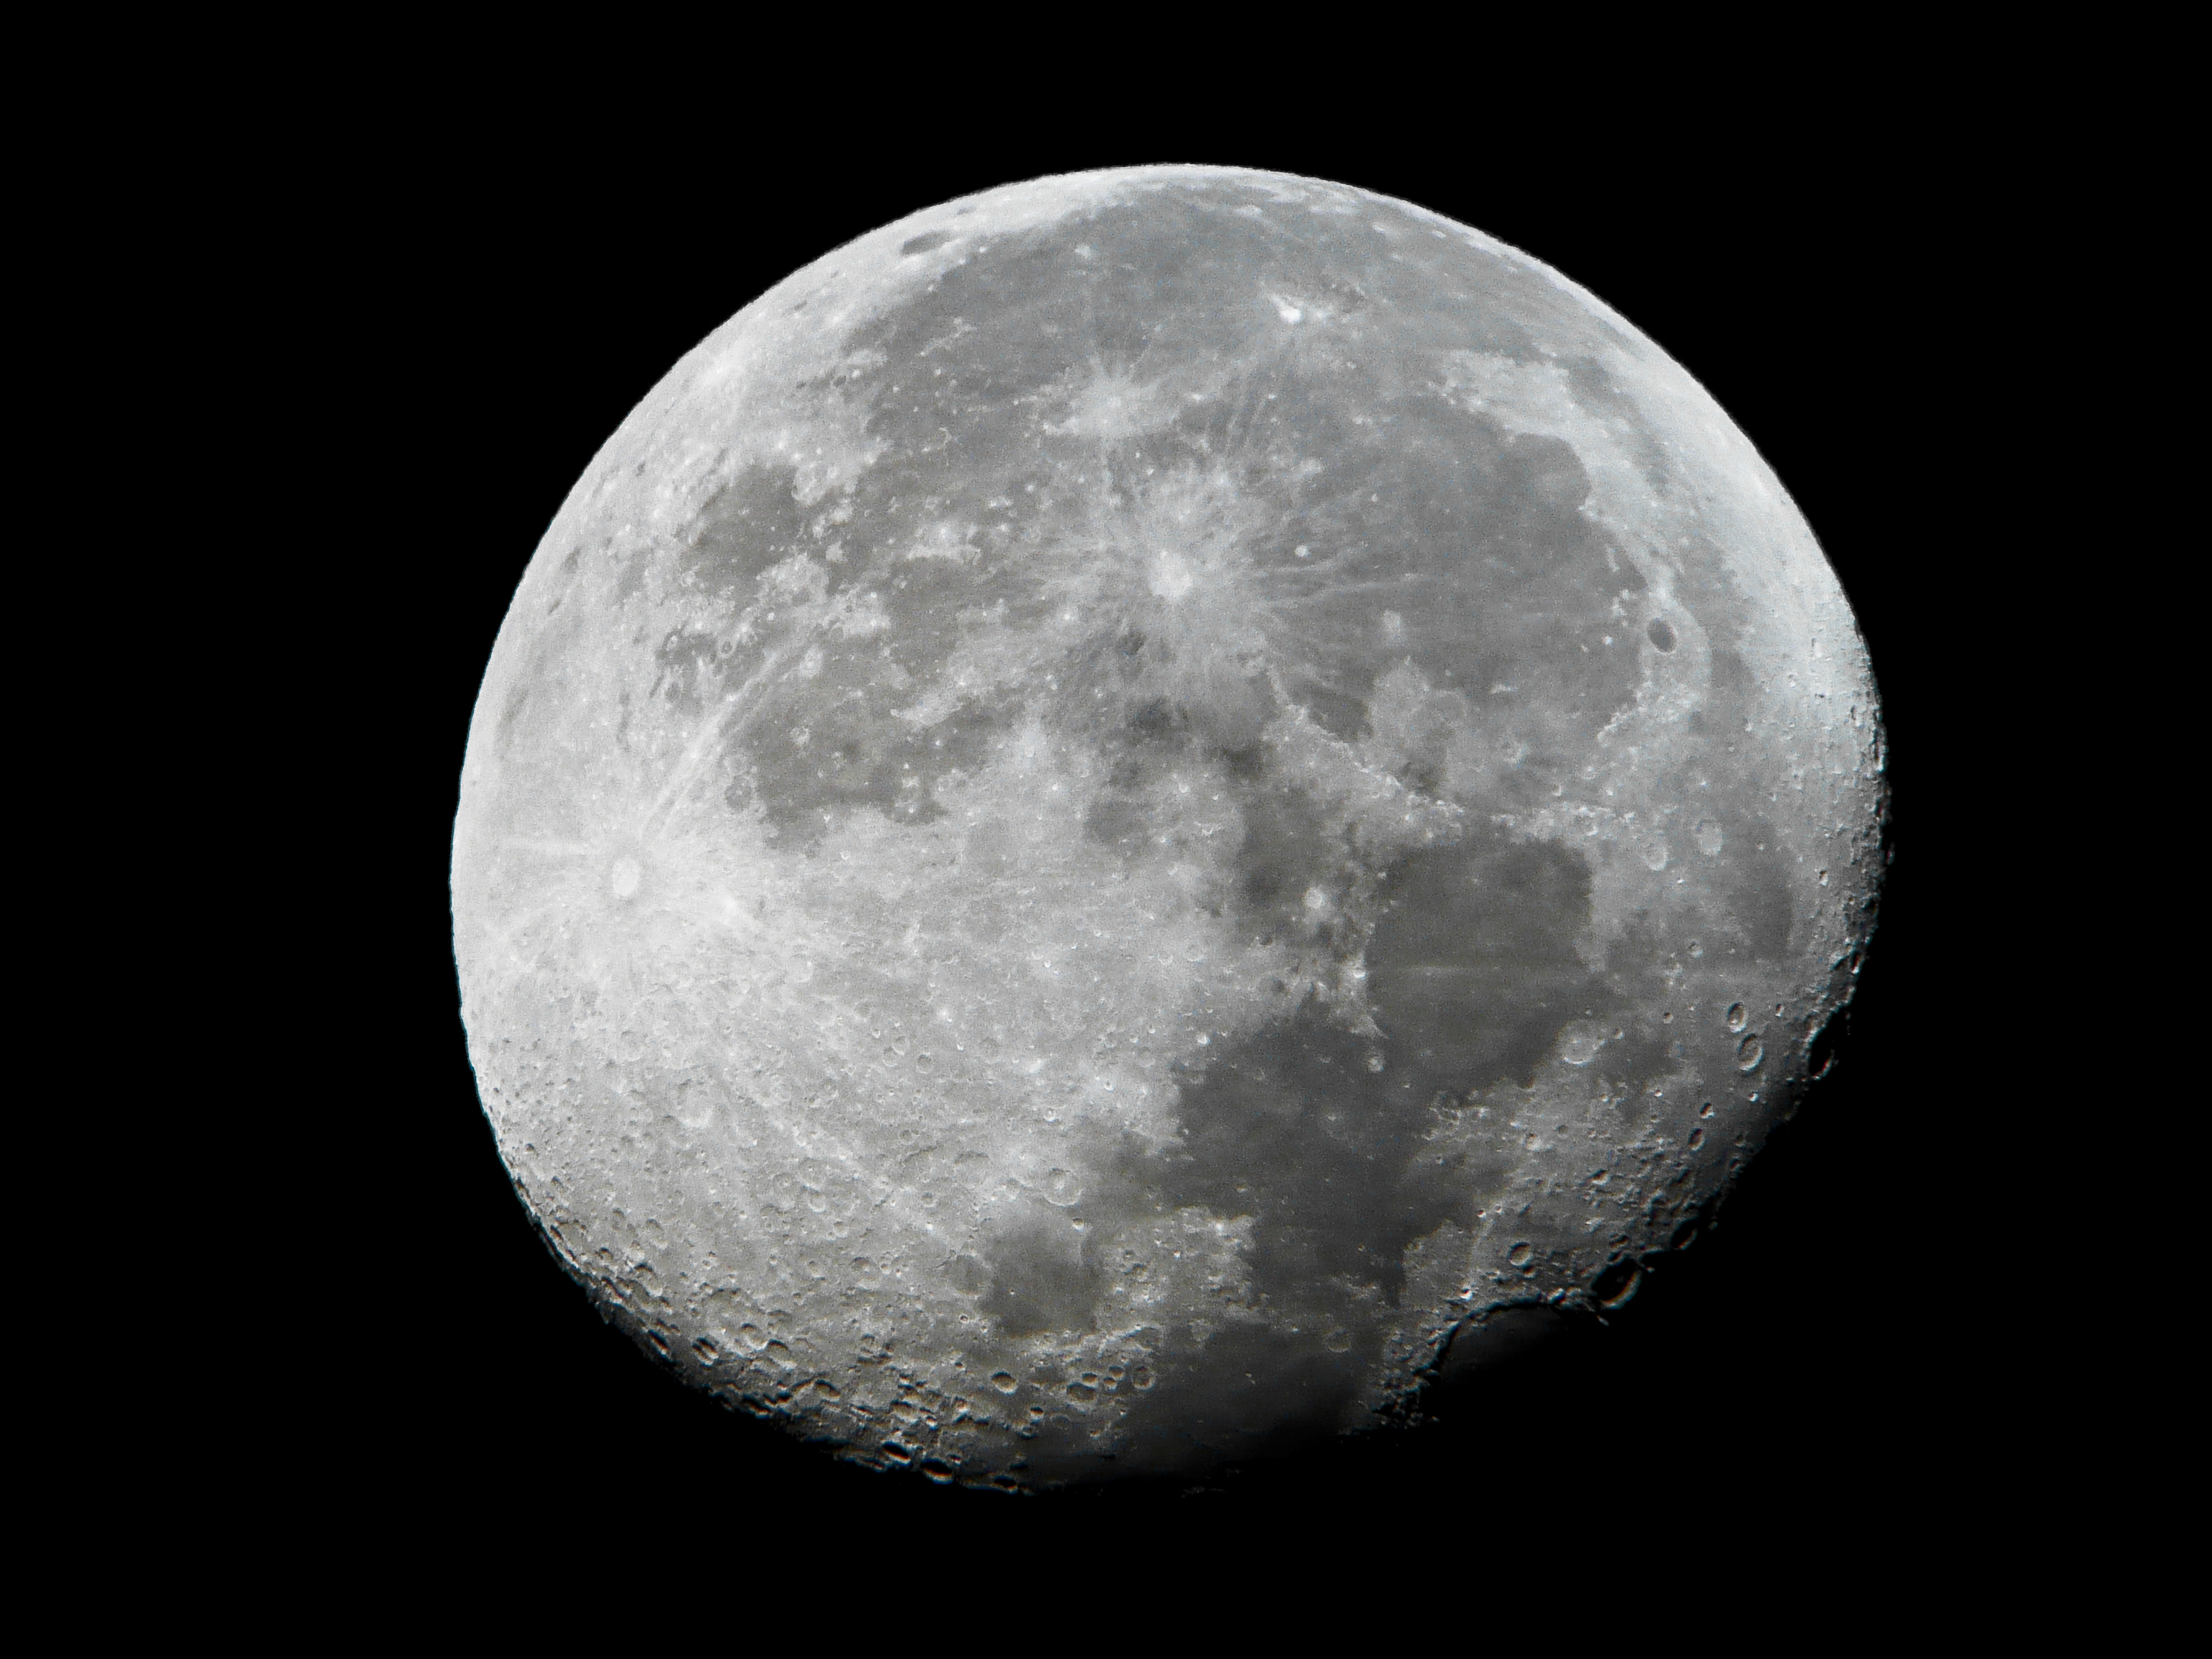crater: (556, 798, 707, 962), (1092, 516, 1263, 659), (1036, 347, 1184, 465), (655, 1066, 730, 1147), (1014, 1150, 1094, 1213), (1543, 1007, 1611, 1073), (1367, 591, 1423, 660), (1632, 608, 1686, 678), (714, 767, 770, 819), (1292, 871, 1345, 922), (1714, 981, 1759, 1035), (1726, 1032, 1771, 1075), (984, 1364, 1033, 1399), (1503, 1229, 1538, 1269)
